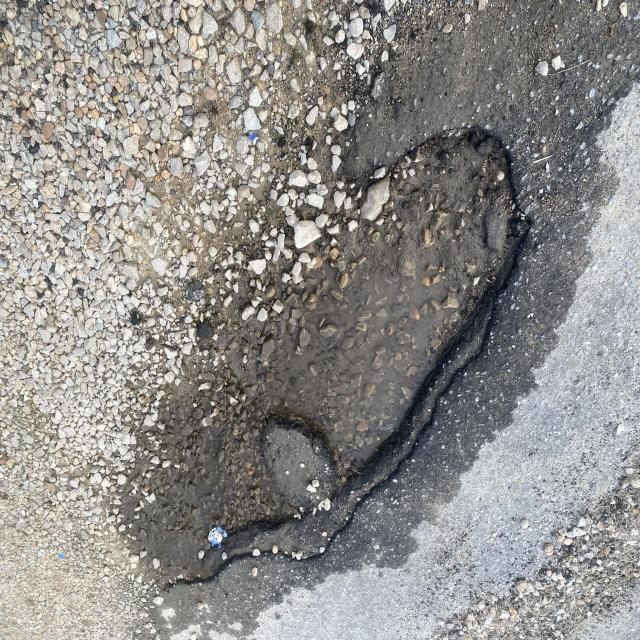pothole: (118, 88, 539, 591)
